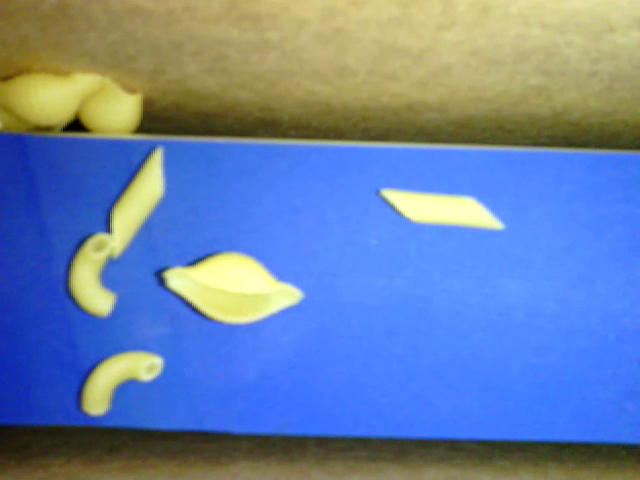elbow: (82, 351, 163, 415), (68, 232, 117, 322)
penne: (111, 143, 161, 257), (377, 187, 505, 230)
shell: (159, 252, 308, 328), (1, 69, 104, 117), (81, 73, 149, 136), (1, 103, 87, 130)
